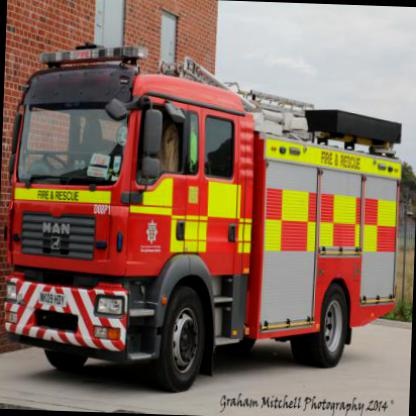truck: (0, 45, 412, 407)
